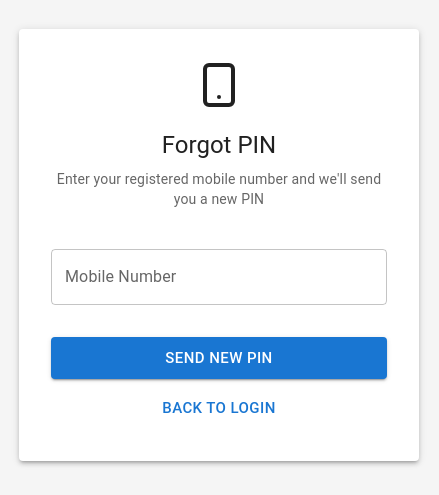
Test: Authentication Pages › ForgotPin › validates mobile number
Click the button "Send New PIN" at (219, 358), box [51,337,387,379]
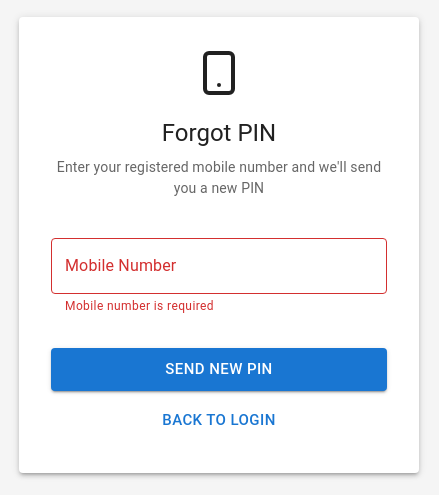
Check: the text "Mobile number is required" is shown, box [65,298,214,312]
